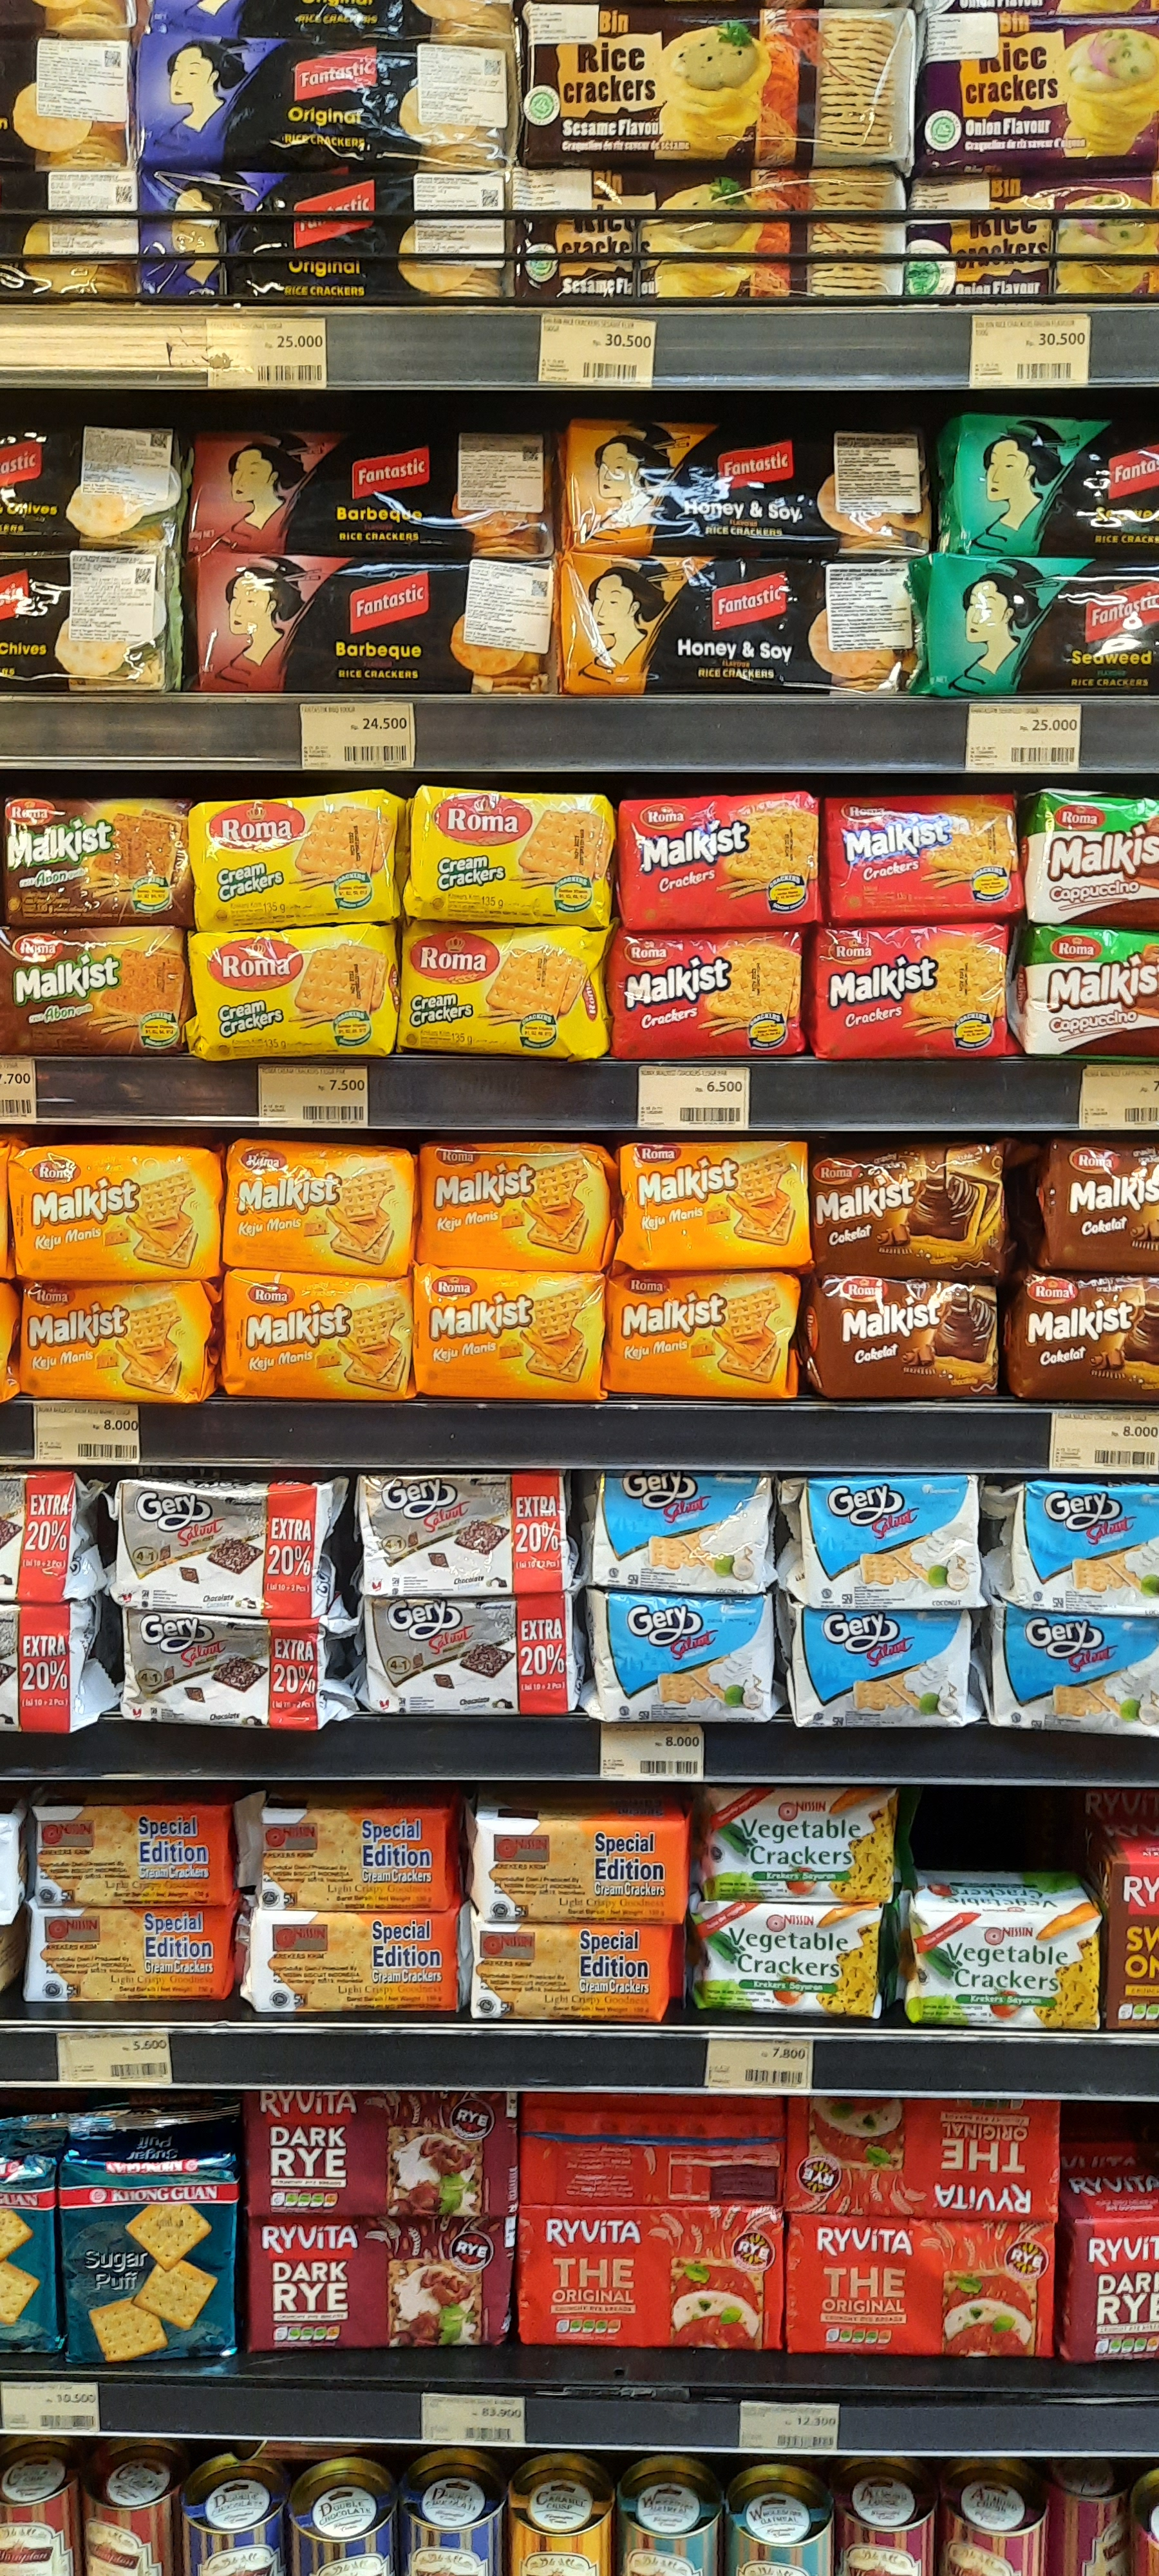90101225209100: (586, 1464, 778, 1598), (586, 1590, 780, 1723), (788, 1474, 980, 1607), (996, 1607, 1159, 1740), (996, 1475, 1159, 1607), (793, 1607, 973, 1725)
90101225218101: (118, 1487, 338, 1613), (358, 1474, 565, 1594), (123, 1615, 330, 1735), (368, 1597, 573, 1717)
BinRiceCrackerScsameFlavour: (522, 7, 918, 176), (520, 176, 903, 301)
FantasticBarbeque: (179, 554, 563, 706), (189, 434, 553, 550)
FantasticHoney&Soy: (573, 411, 957, 563), (555, 552, 937, 703)
FantasticOriginal: (131, 23, 515, 179), (141, 176, 512, 302)
KongGuanSugarPuff: (64, 2101, 246, 2361)
Nissin VegetableCrackersKrekersSayuran: (908, 1904, 1098, 2027), (699, 1778, 888, 1899), (693, 1901, 880, 2022)
NissinCreamCrackers(Special Edition)LightCrispyGoodness: (250, 1902, 456, 2017), (474, 1924, 685, 2022), (476, 1819, 686, 1917), (30, 1804, 240, 1902), (25, 1902, 235, 2001), (251, 1810, 460, 1907)
Roma MalkistAbon: (3, 798, 192, 923), (2, 923, 190, 1046)
Roma MalkistCrackers: (616, 927, 811, 1060), (814, 922, 1008, 1055), (624, 795, 818, 927), (822, 797, 1016, 928)
Roma MalkistCreamCrackers: (404, 789, 614, 920), (194, 793, 402, 925), (402, 918, 611, 1050), (190, 925, 399, 1055)
RomaMalkistCoklat: (816, 1138, 1005, 1267), (808, 1275, 998, 1401)
RomaMalkistKejuManis: (16, 1150, 220, 1280), (225, 1147, 422, 1268), (220, 1275, 417, 1396), (415, 1273, 612, 1395), (420, 1145, 617, 1267), (614, 1143, 811, 1265), (21, 1281, 217, 1403), (611, 1273, 806, 1395)
RyvitaDark Rye: (246, 2093, 522, 2224), (238, 2219, 514, 2349)
RyvitaTheOriginal: (515, 2206, 785, 2357), (788, 2219, 1057, 2369), (780, 2096, 1054, 2215)
